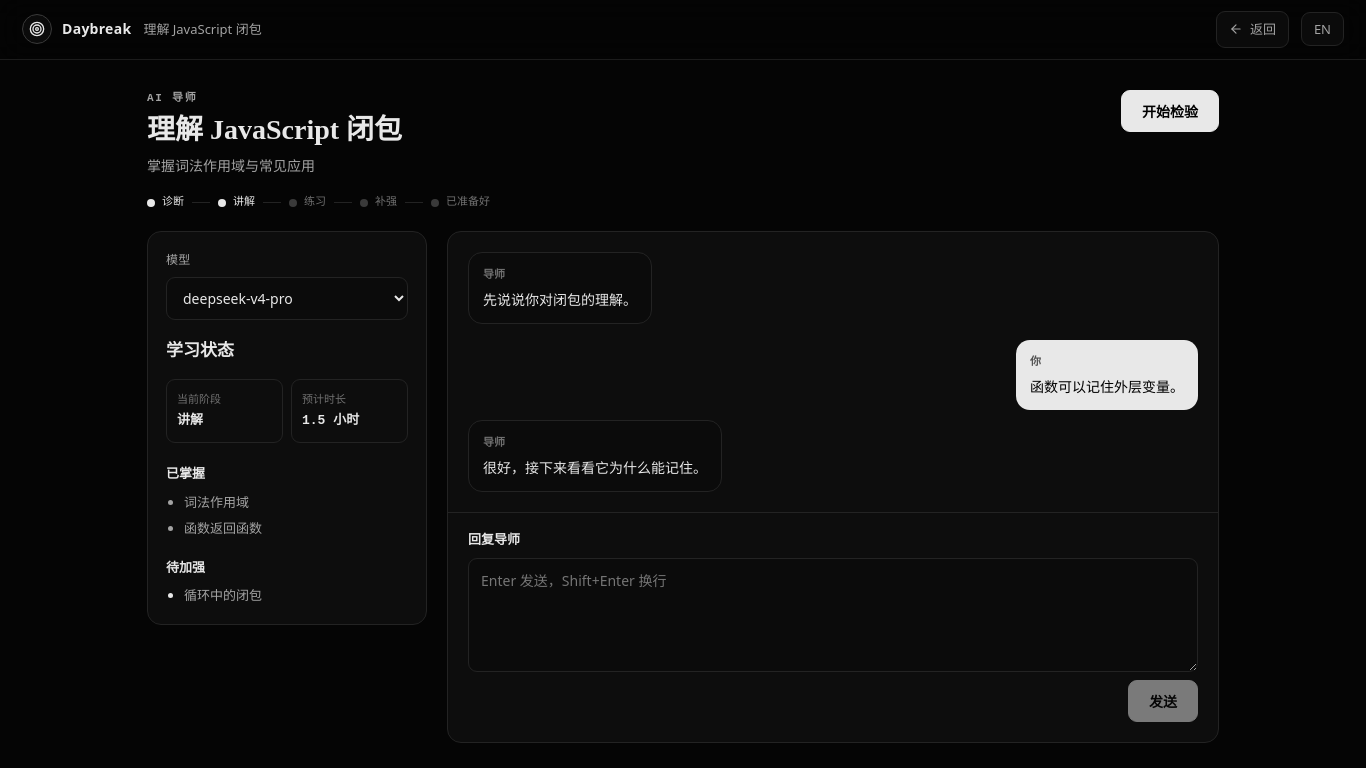
Test: LearningPage › opens the verification modal and returns to daily tasks
Click the button "开始检验" at point(1170, 111), box [1121, 90, 1219, 132]
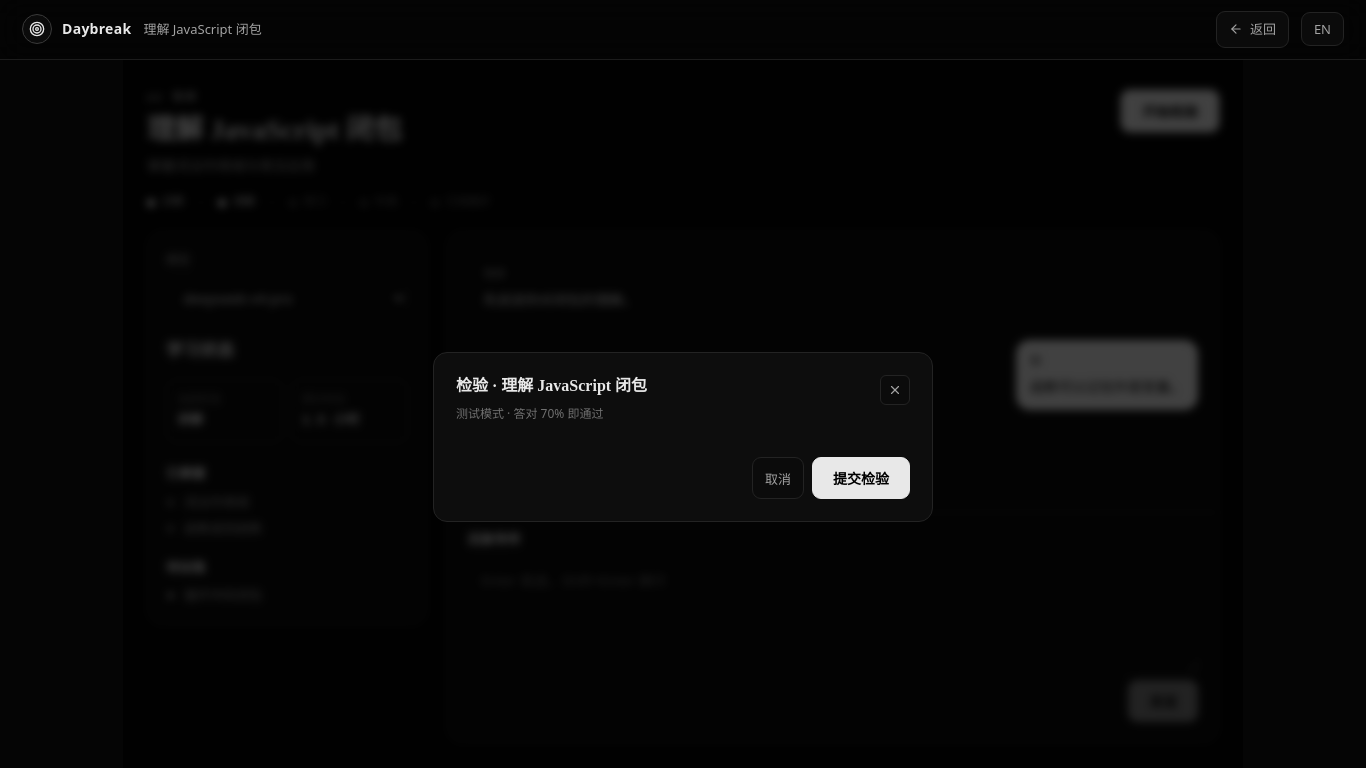
Expected: the text "检验 · 理解 JavaScript 闭包" is shown, [456, 376, 647, 398]
